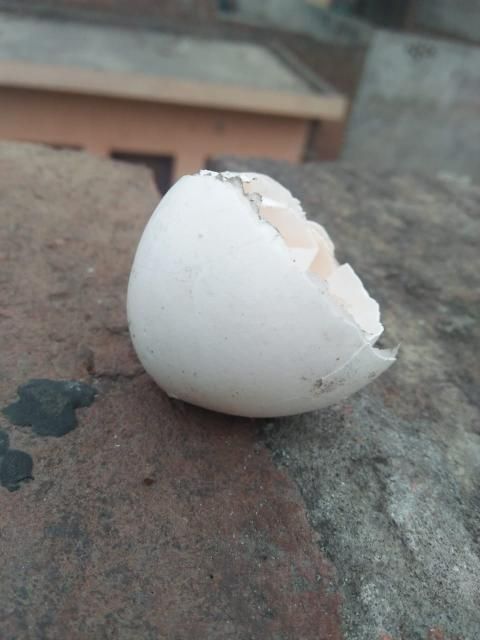Roto: (125, 168, 400, 419)
